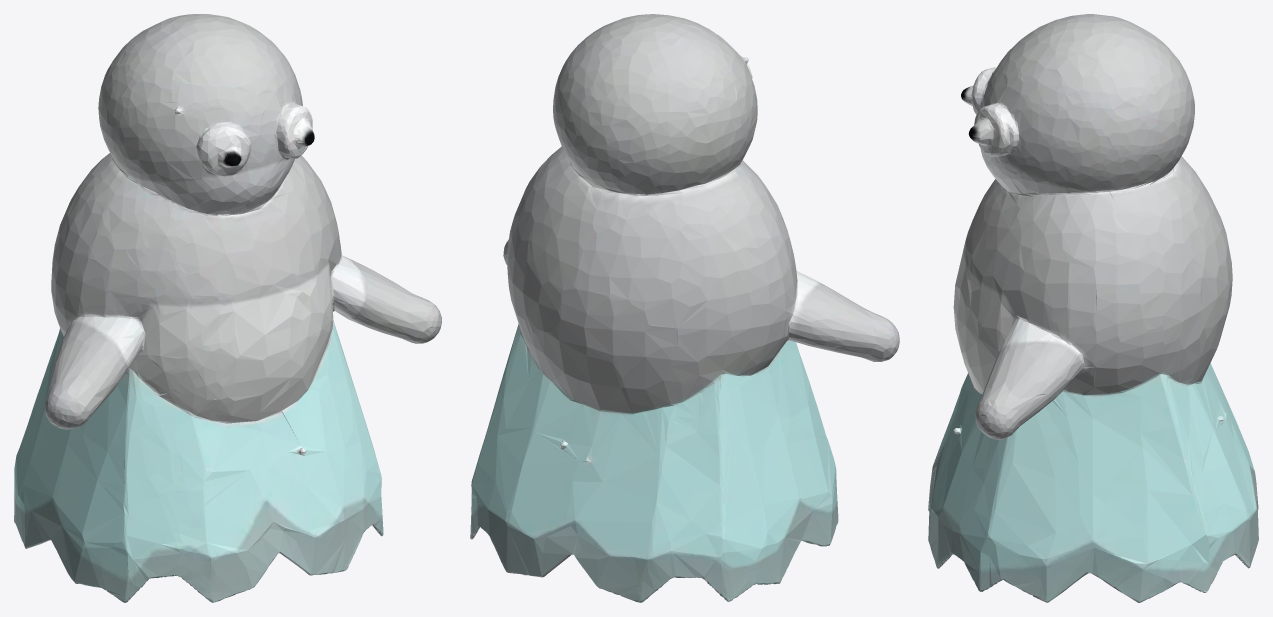
Rendered from creature-120.lod.glb.
3 views of the same model, side by side, from view 1: azimuth 30°, elevation 25°; view 2: azimuth 150°, elevation 25°; view 3: azimuth 270°, elevation 25° (orthographic).
Visible parts, largest first — view 1: tmprw9eh5dc.ply; view 2: tmprw9eh5dc.ply; view 3: tmprw9eh5dc.ply.
Part boxes in pixels (x1,y1,x2,y2): tmprw9eh5dc.ply: (14, 14, 441, 602); tmprw9eh5dc.ply: (470, 14, 899, 602); tmprw9eh5dc.ply: (928, 14, 1258, 602).
Size of the model in its own units: 1.56 by 1.93 by 1.14.
Materials: 1 (1 with a texture image).
